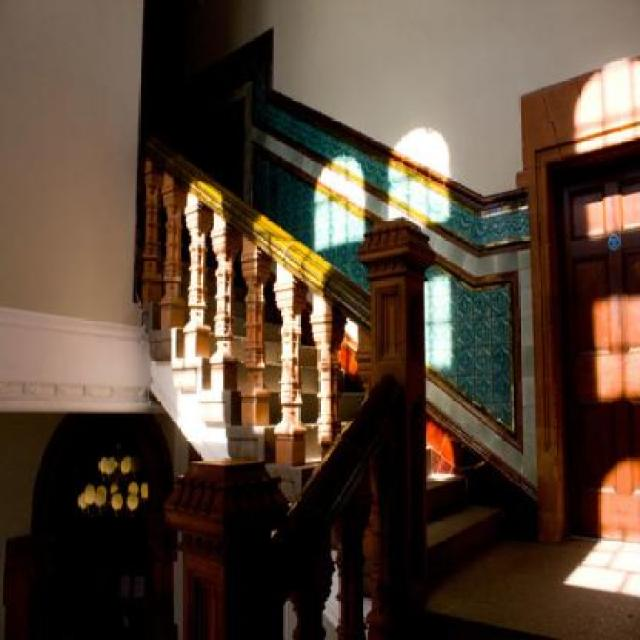stair: (140, 302, 640, 638)
